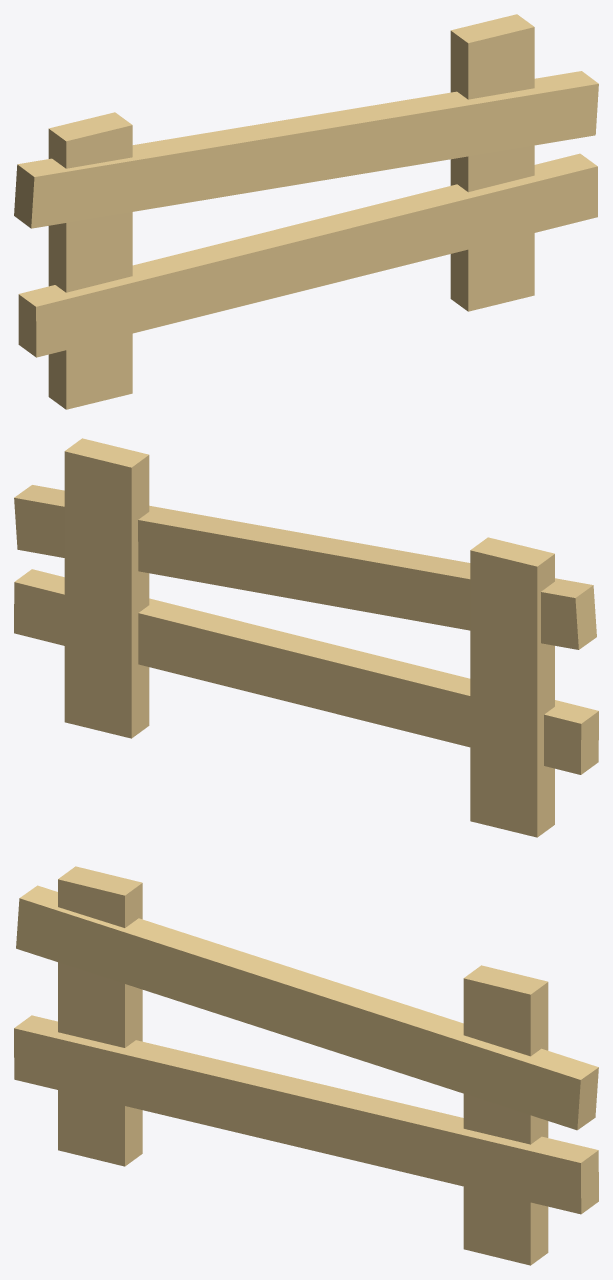
Rendered from fence.gltf.
3 views of the same model, one above another, from view 1: azimuth 30°, elevation 25°; view 2: azimuth 150°, elevation 25°; view 3: azimuth 330°, elevation 25° (orthographic).
Parts seen in each view (by area): view 1: Cube.002; view 2: Cube.002; view 3: Cube.002.
Boxes of the visible parts, left/top/right/bottom form: Cube.002: left=14, top=14, right=598, bottom=409; Cube.002: left=14, top=438, right=598, bottom=837; Cube.002: left=14, top=866, right=598, bottom=1265.
Bounding box in the file's own units: 5.2 × 2.37 × 0.399.
